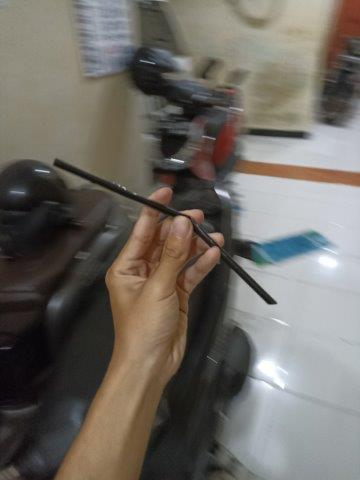sedotan: (53, 157, 275, 305)
